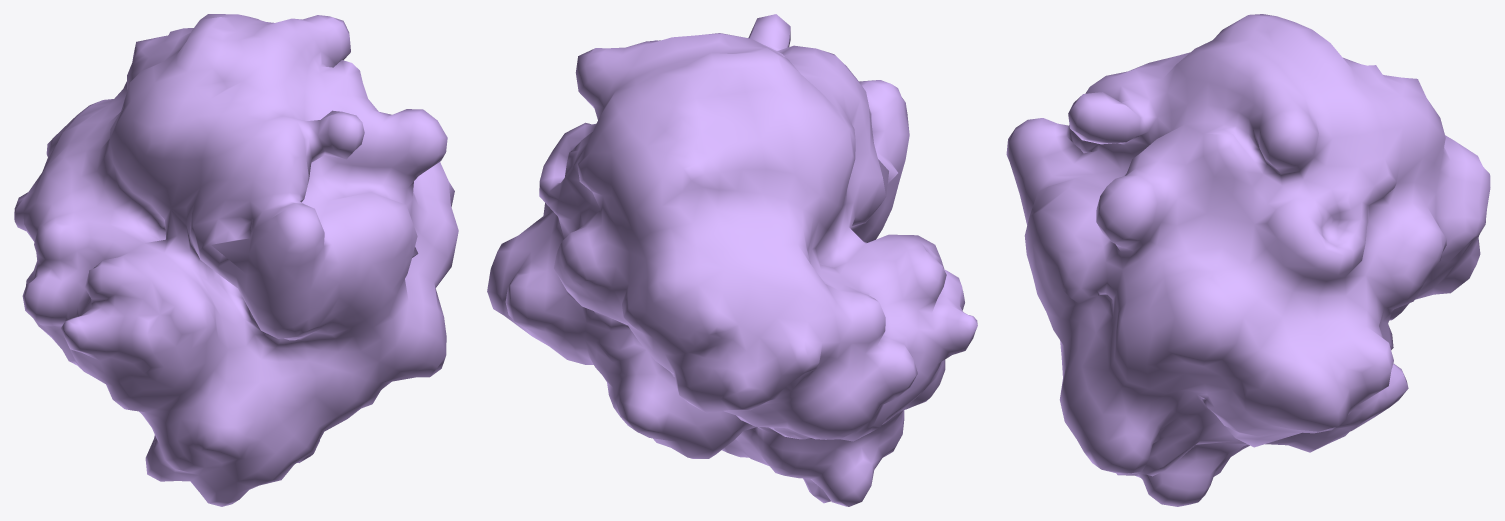
Rendered from peroxisome_internal.fbx.
The picture shows the model from 3 angles, left to right: view 1: azimuth 30°, elevation 25°; view 2: azimuth 150°, elevation 25°; view 3: azimuth 270°, elevation 25°; orthographic projection. The views are drawn at different scales.
Visible parts, largest first — view 1: Peroxisome_internal; view 2: Peroxisome_internal; view 3: Peroxisome_internal.
Boxes of the visible parts, x1,y1,x2,y2 form: Peroxisome_internal: (14,14,458,506); Peroxisome_internal: (487,14,977,506); Peroxisome_internal: (1006,14,1490,506).
Size of the model in its own units: 69.91 by 74.97 by 66.76.
